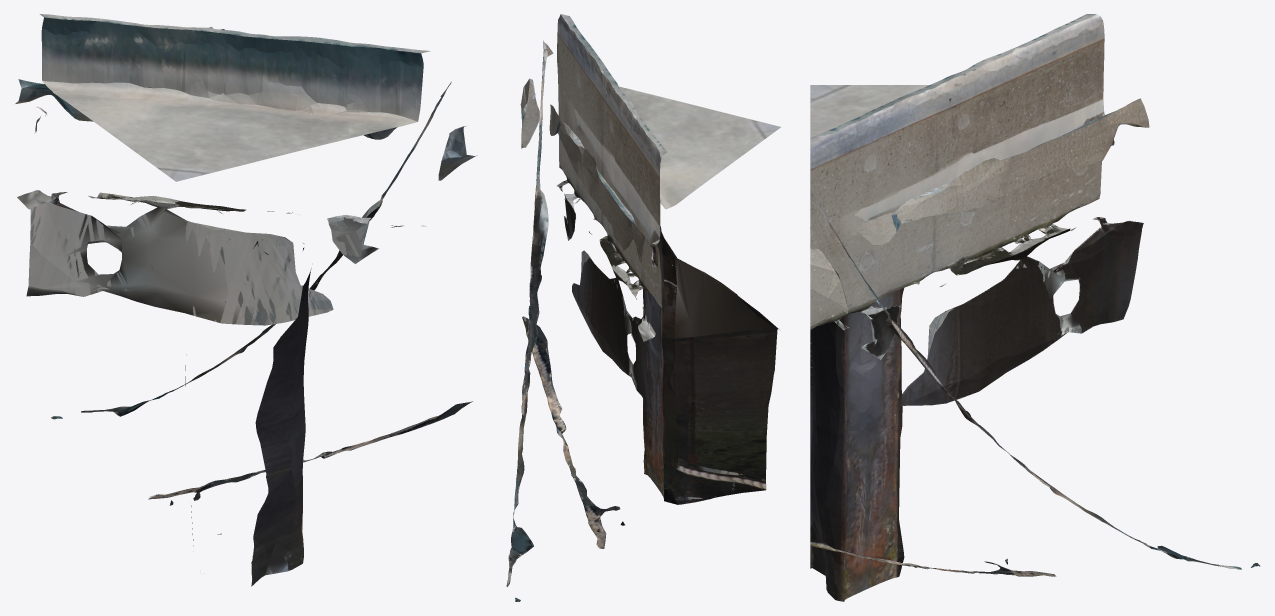
The picture shows the model from 3 angles, left to right: view 1: azimuth 30°, elevation 25°; view 2: azimuth 150°, elevation 25°; view 3: azimuth 270°, elevation 25°; orthographic projection. The views are drawn at different scales.
Bounding box in the file's own units: 1.77 × 2.77 × 2.19.
2 materials, 2 textured.
